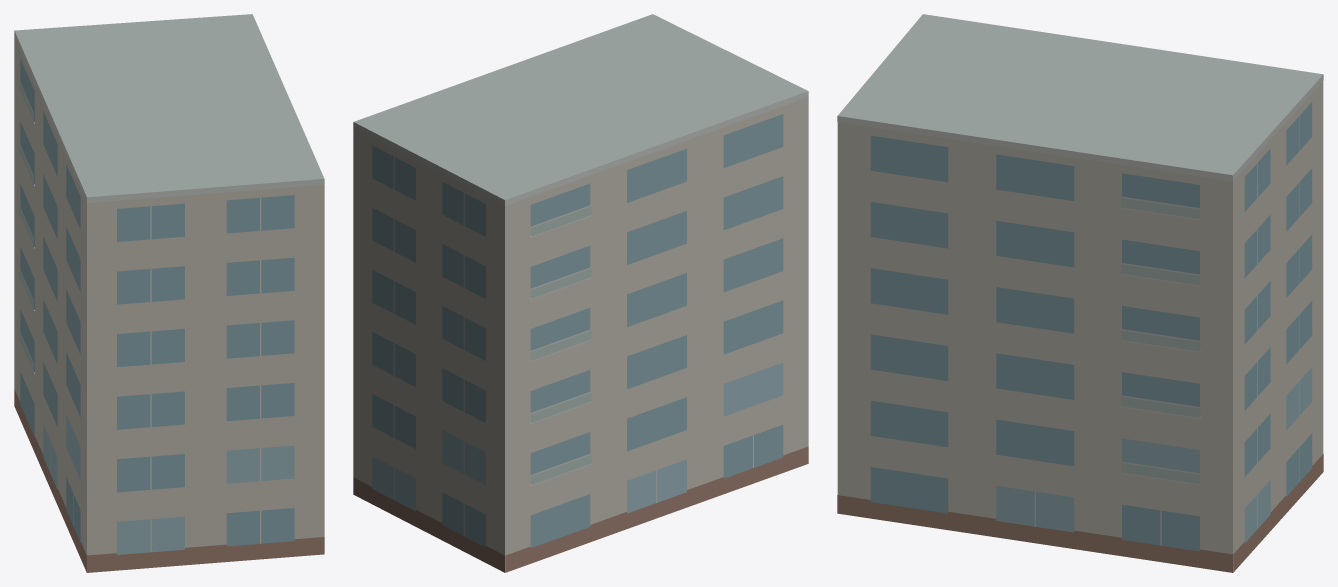
File: survey-upis-32885145.glb
3 renders of one model, left to right at view 1: azimuth 30°, elevation 25°; view 2: azimuth 150°, elevation 25°; view 3: azimuth 270°, elevation 25°, orthographic. The views are drawn at different scales.
Parts seen in each view (by area): view 1: survey-upis-32885145.tmp; view 2: survey-upis-32885145.tmp; view 3: survey-upis-32885145.tmp.
Part boxes in pixels (bbox=[...]): survey-upis-32885145.tmp: bbox=[14, 14, 324, 572]; survey-upis-32885145.tmp: bbox=[353, 14, 808, 572]; survey-upis-32885145.tmp: bbox=[837, 14, 1323, 572].
Size of the model in its own units: 13.66 by 15.7 by 17.4.
